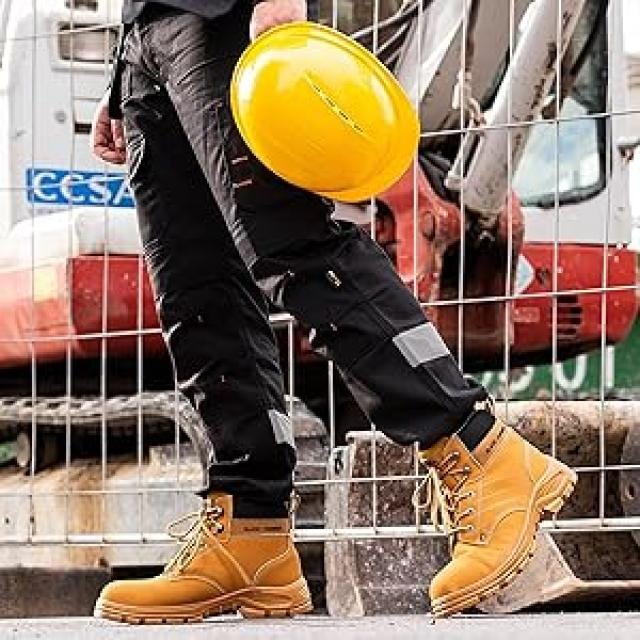Boots: (406, 403, 582, 616), (90, 477, 326, 631)
Hard Hat: (217, 21, 427, 212)
